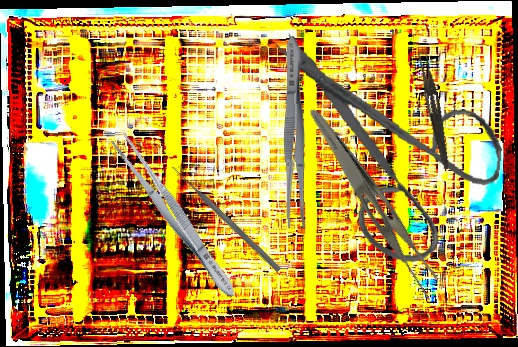Dressing Forceps: (288, 105, 455, 305), (107, 129, 243, 304), (280, 35, 309, 231), (413, 50, 456, 170)
Iris Scissors: (254, 29, 512, 271)
Pusher: (169, 163, 283, 274)
